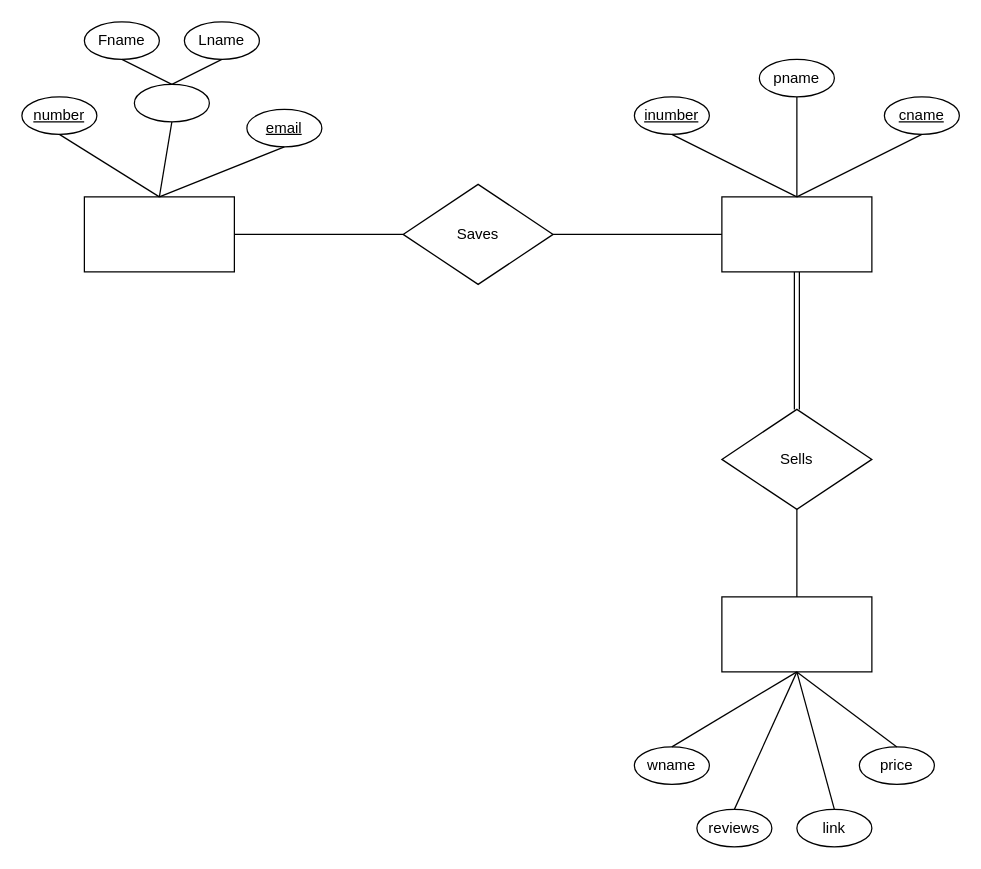
Some shapes in this 981 by 869 pixel diagram are drawn without their labels. Each missing label, with the box of its shape:
Account: (83, 196, 234, 272)
Merchants: (721, 596, 872, 672)
name: (133, 83, 209, 122)
Product: (721, 196, 872, 272)
